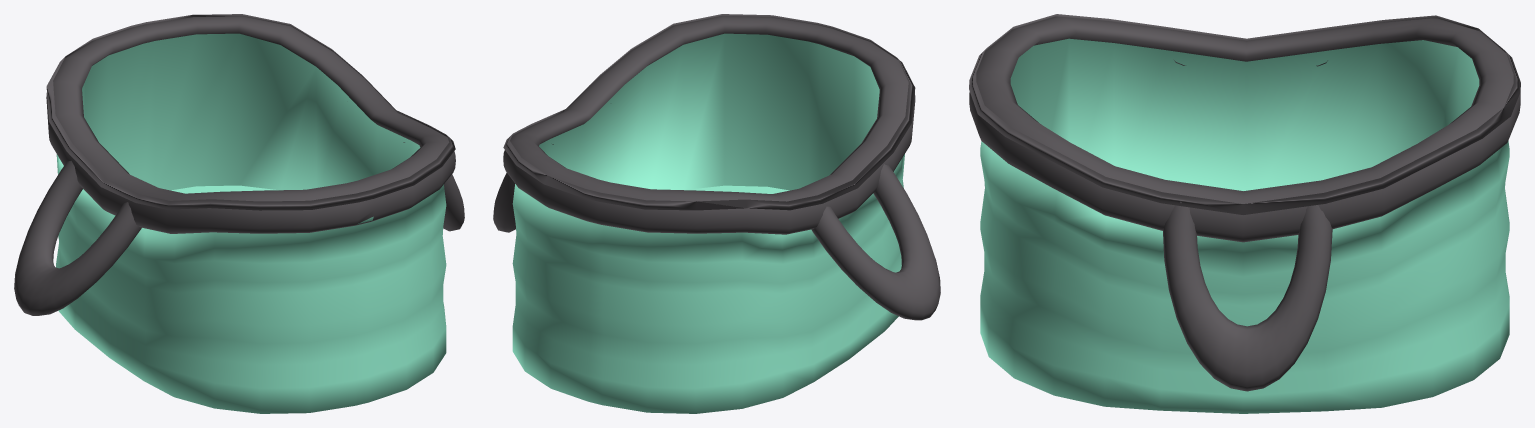
File: ToyObject_109.fbx
3 views of the same model, side by side, from view 1: azimuth 30°, elevation 25°; view 2: azimuth 150°, elevation 25°; view 3: azimuth 270°, elevation 25° (orthographic). The views are drawn at different scales.
Parts seen in each view (by area): view 1: 1.010; view 2: 1.010; view 3: 1.010.
Boxes of the visible parts, x1,y1,x2,y2 form: 1.010: (14, 14, 464, 413); 1.010: (493, 14, 940, 413); 1.010: (969, 14, 1520, 413).
Bounding box in the file's own units: 0.1915 × 0.0928 × 0.1803.
